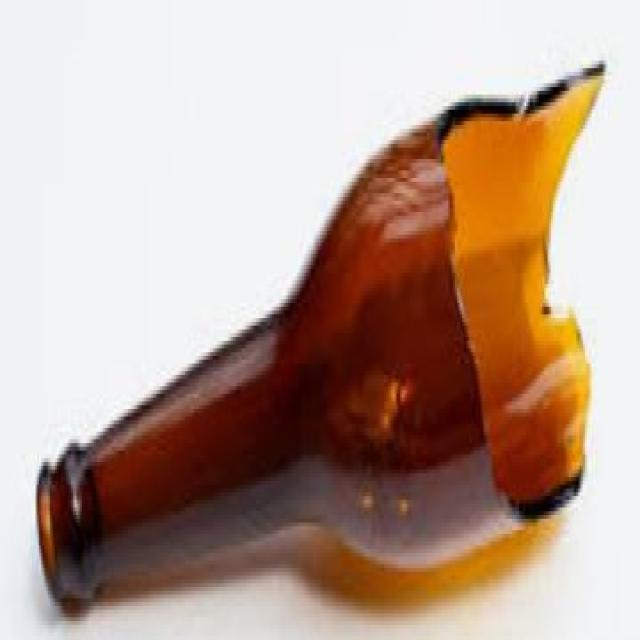electronic: (34, 53, 610, 640)
